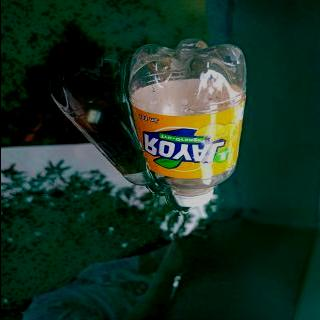bottle: (124, 36, 248, 208)
